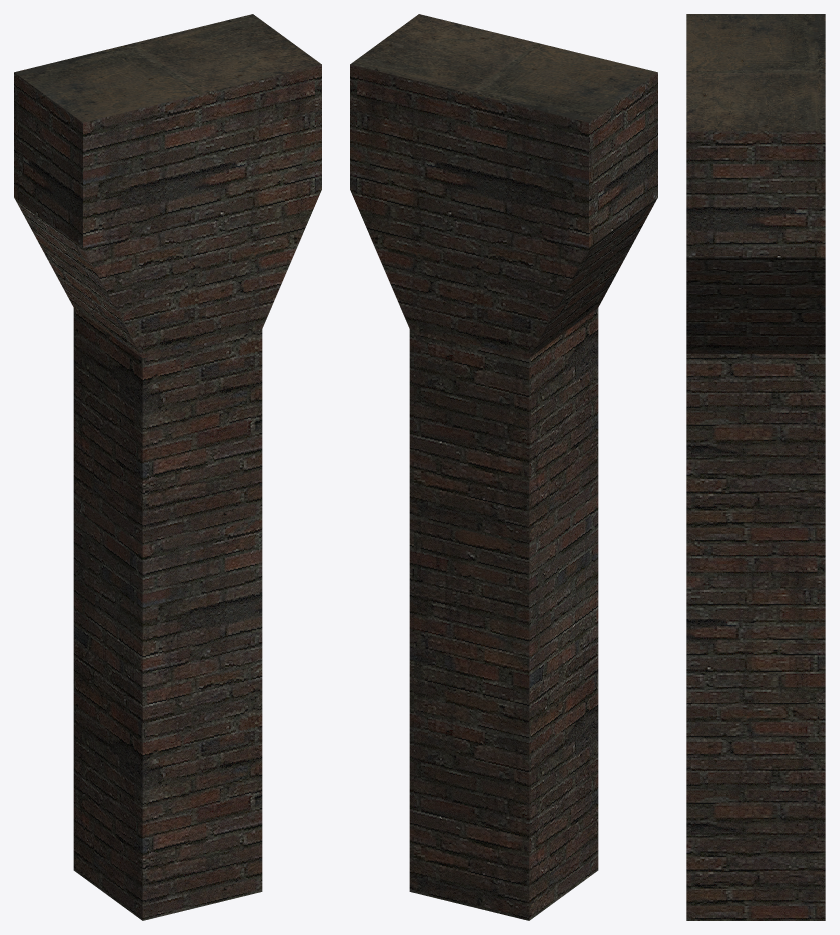
File: pillar_hs_7.glb
3 renders of one model, left to right at view 1: azimuth 30°, elevation 25°; view 2: azimuth 150°, elevation 25°; view 3: azimuth 270°, elevation 25°, orthographic.
Parts seen in each view (by area): view 1: pillar_hs_7; view 2: pillar_hs_7; view 3: pillar_hs_7.
Boxes of the visible parts, box(x1,y1,x2,y2) form: pillar_hs_7: box(14, 14, 321, 920); pillar_hs_7: box(350, 14, 657, 920); pillar_hs_7: box(686, 14, 825, 920).
Bounding box in the file's own units: 2 × 6.5 × 1.
Materials: 2 (2 with a texture image).
